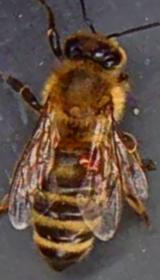varroa_mite: (74, 146, 104, 176)
